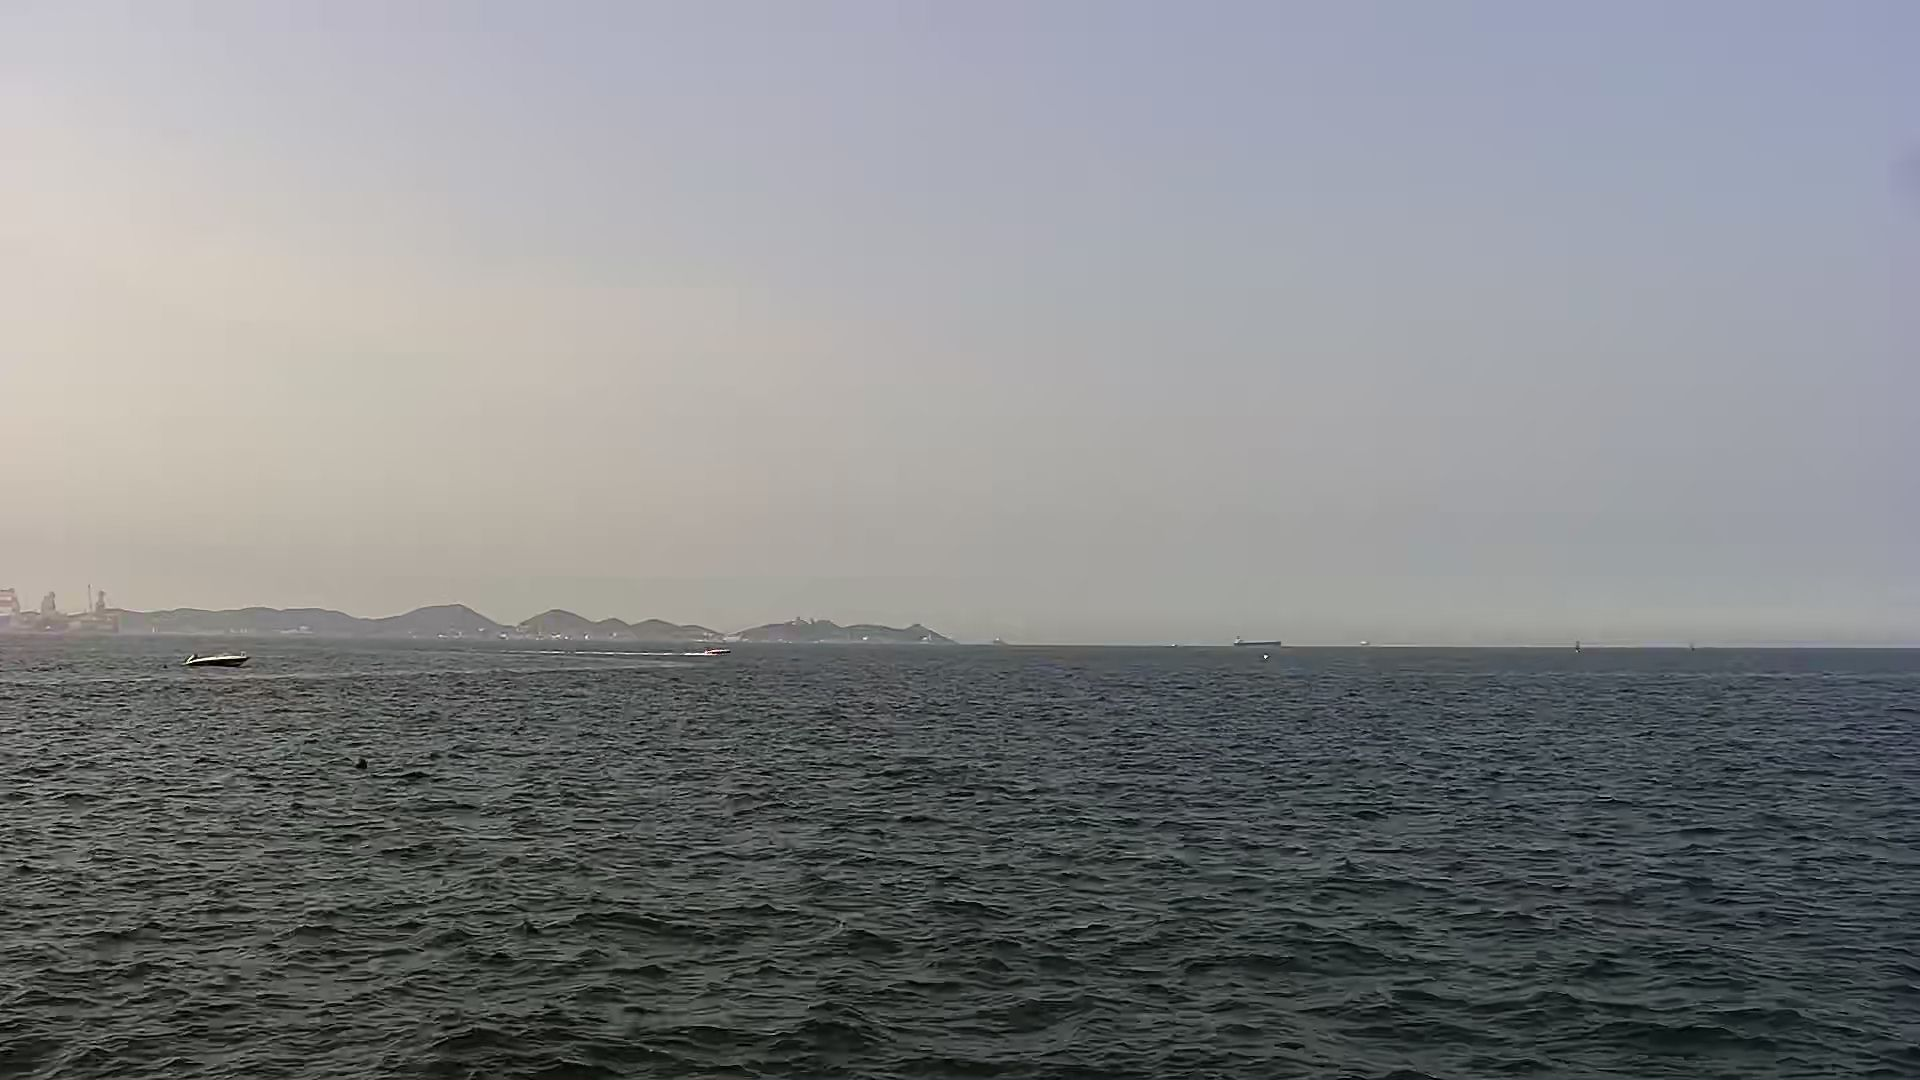boat: (185, 646, 258, 673)
